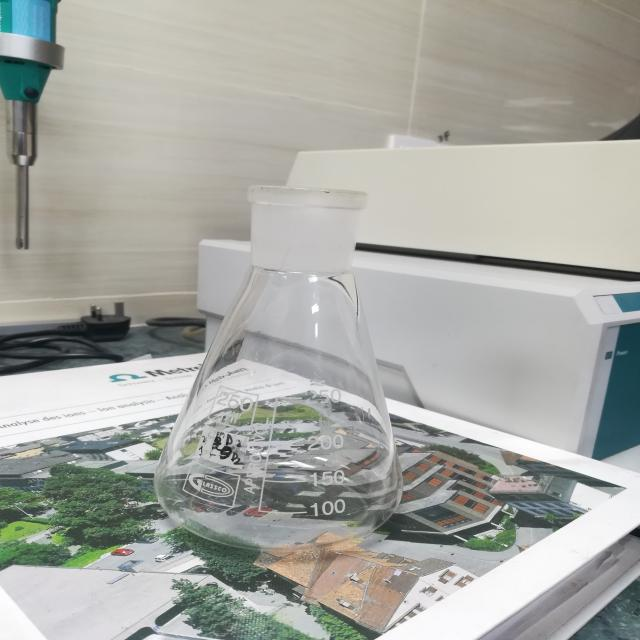Conical_Flask: (134, 144, 437, 574)
